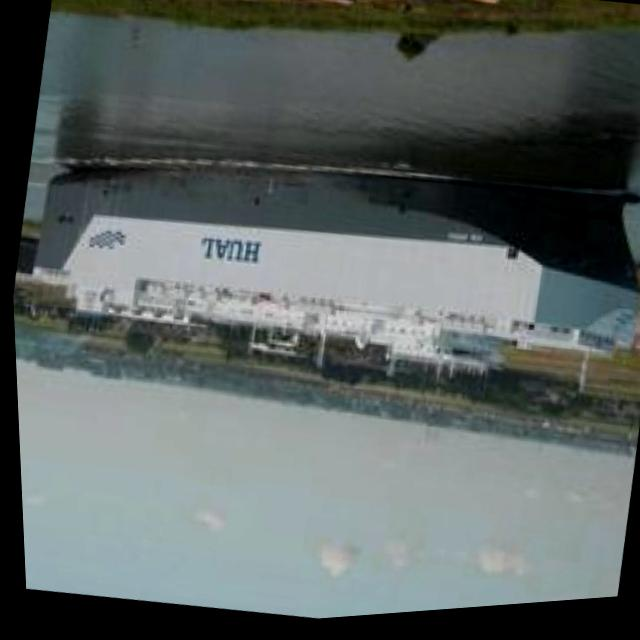ship2: (29, 160, 638, 403)
